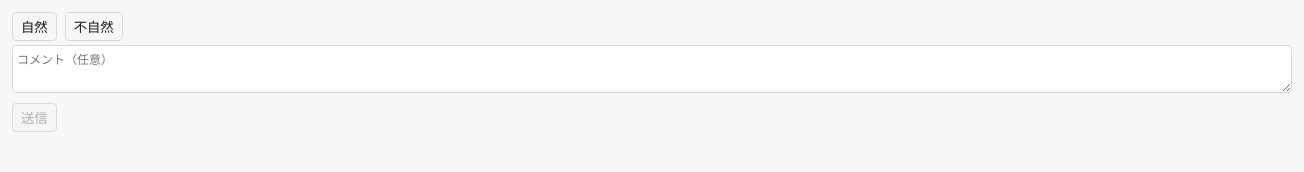
Test: FeedbackForm › 自然を選択しコメントを入力して送信するとfeedback APIを呼ぶ
Click the button "自然".
click(34, 26)  # box [12, 12, 57, 41]
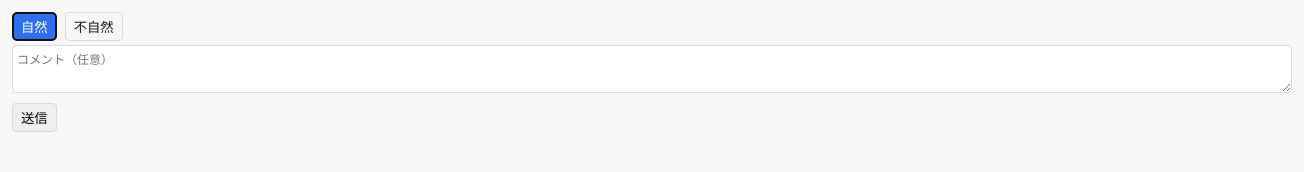
Type "良い" into the text box with placeholder "コメント（任意）".
click(652, 69); type("良い")  # box [12, 45, 1292, 93]
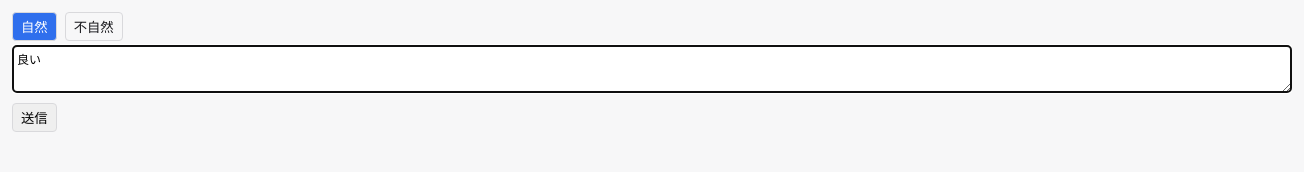
Click the button "送信".
click(34, 117)  # box [12, 103, 57, 132]
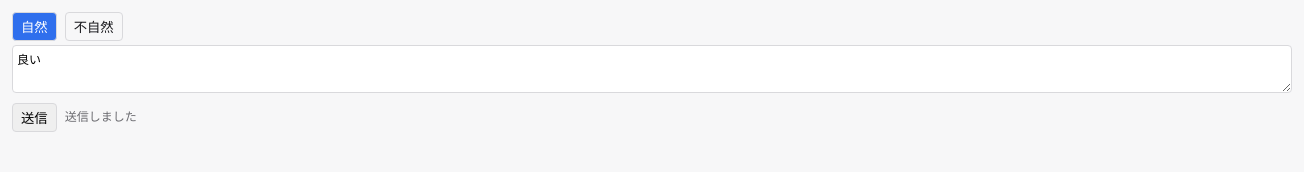
Result: the text "送信しました" is shown at [65, 108, 137, 127]
